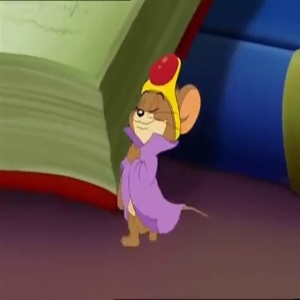Jerry: (121, 48, 205, 149)
